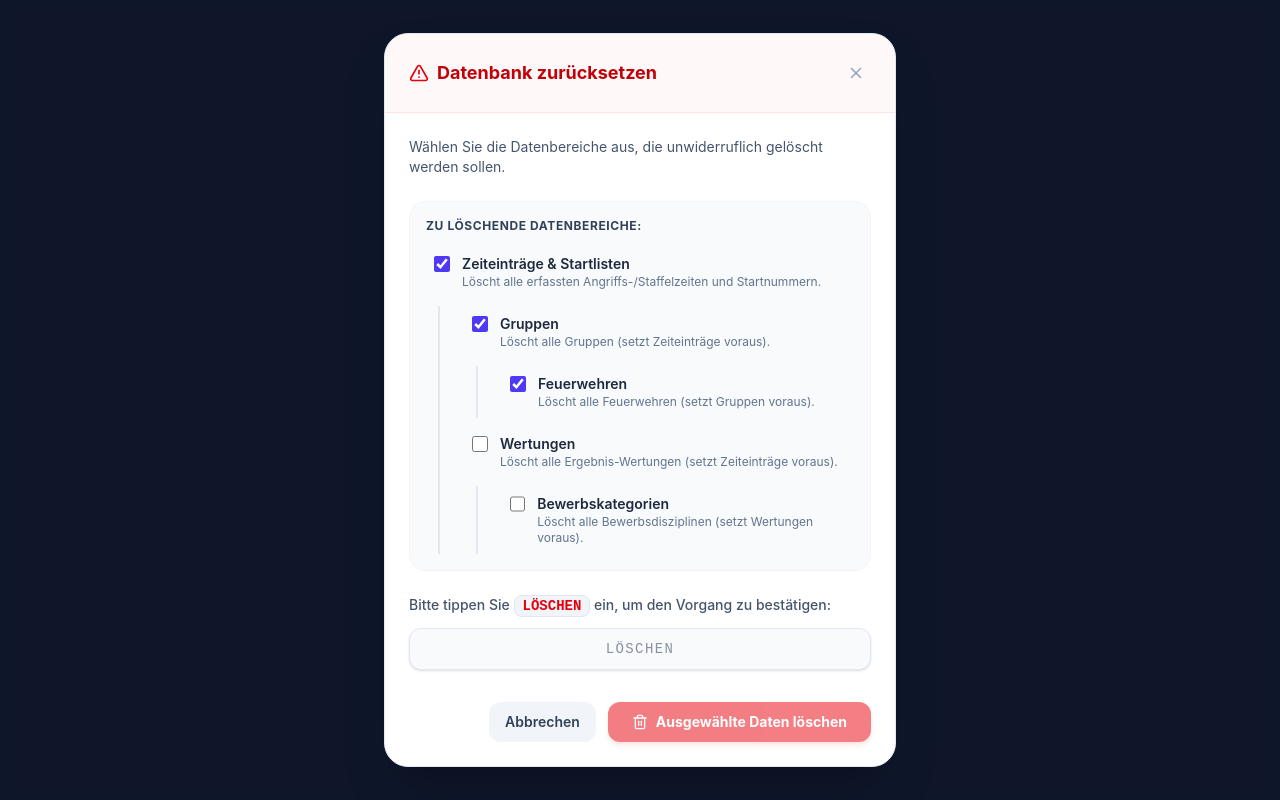
Test: DatabaseResetModal › cascades checking Feuerwehren to check Gruppen and Zeiteinträge
// Uncheck Zeiteinträge to clear everything
Click the checkbox named "scope-category-entries".
click(442, 264)  # box [434,256,450,272]
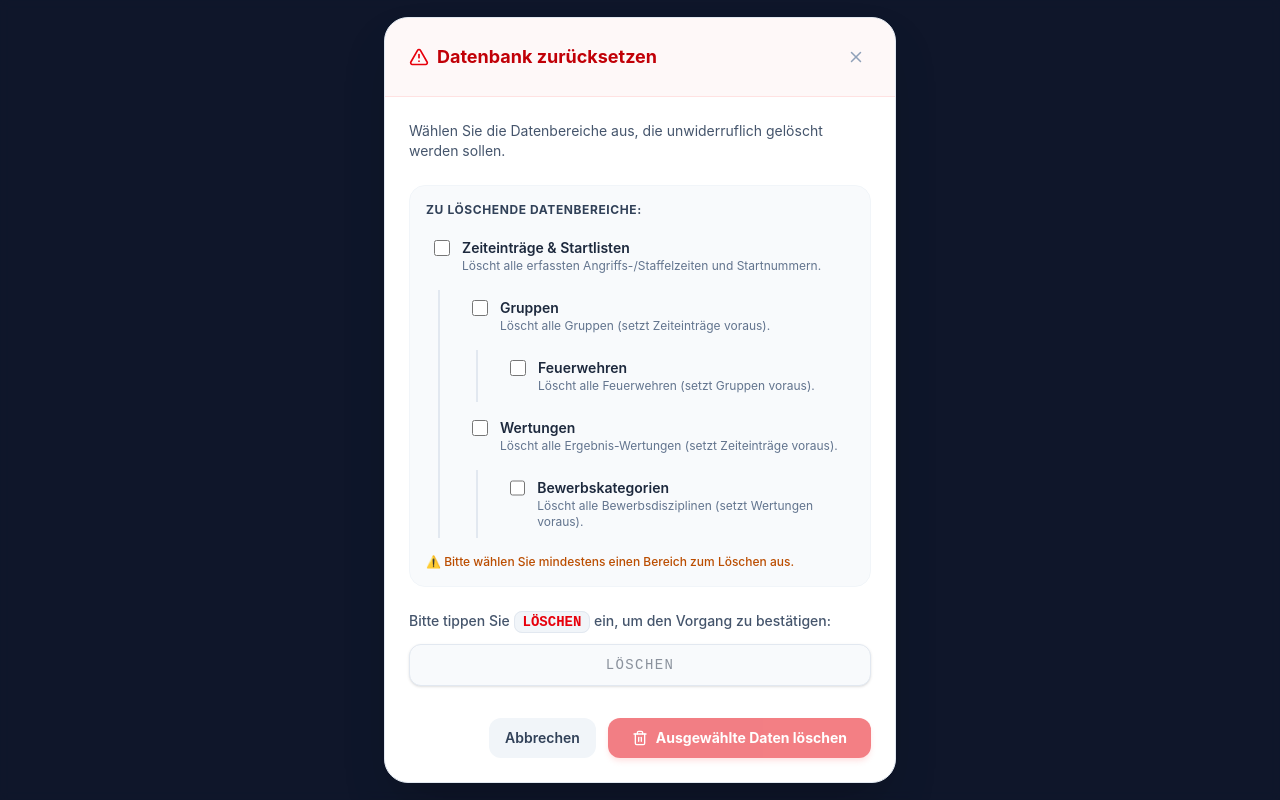
Now the checkbox named "scope-category-entries" is not checked, box [434,240,450,256]
Now the checkbox named "scope-groups" is not checked, box [472,300,488,316]
Now the checkbox named "scope-fire-brigades" is not checked
Click the checkbox named "scope-fire-brigades".
click(518, 368)  # box [510,360,526,376]
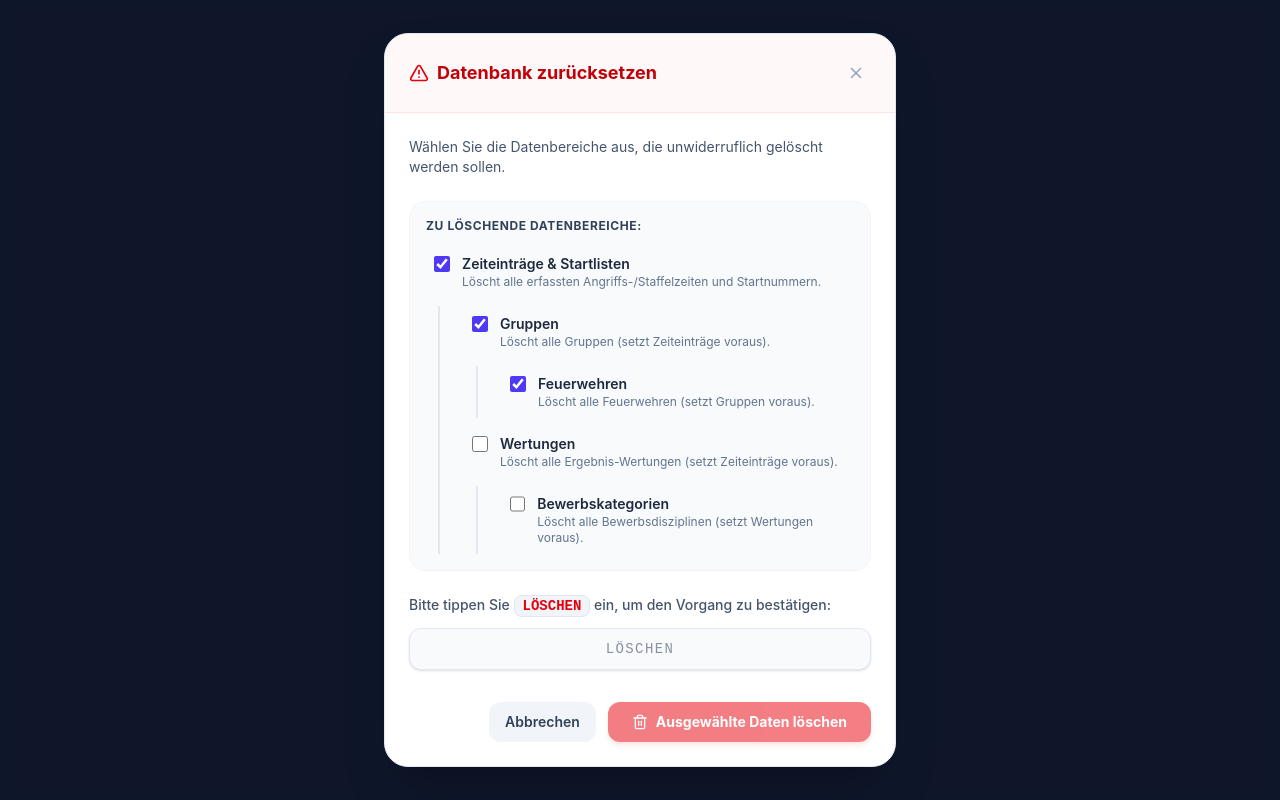
Now the checkbox named "scope-fire-brigades" is checked, box [510,376,526,392]
Now the checkbox named "scope-category-entries" is checked, box [434,256,450,272]
Now the checkbox named "scope-groups" is checked, box [472,316,488,332]
